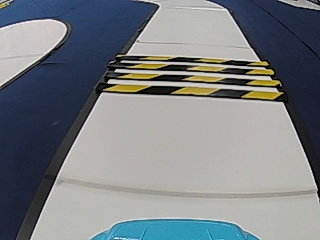bump: (133, 56, 252, 101)
